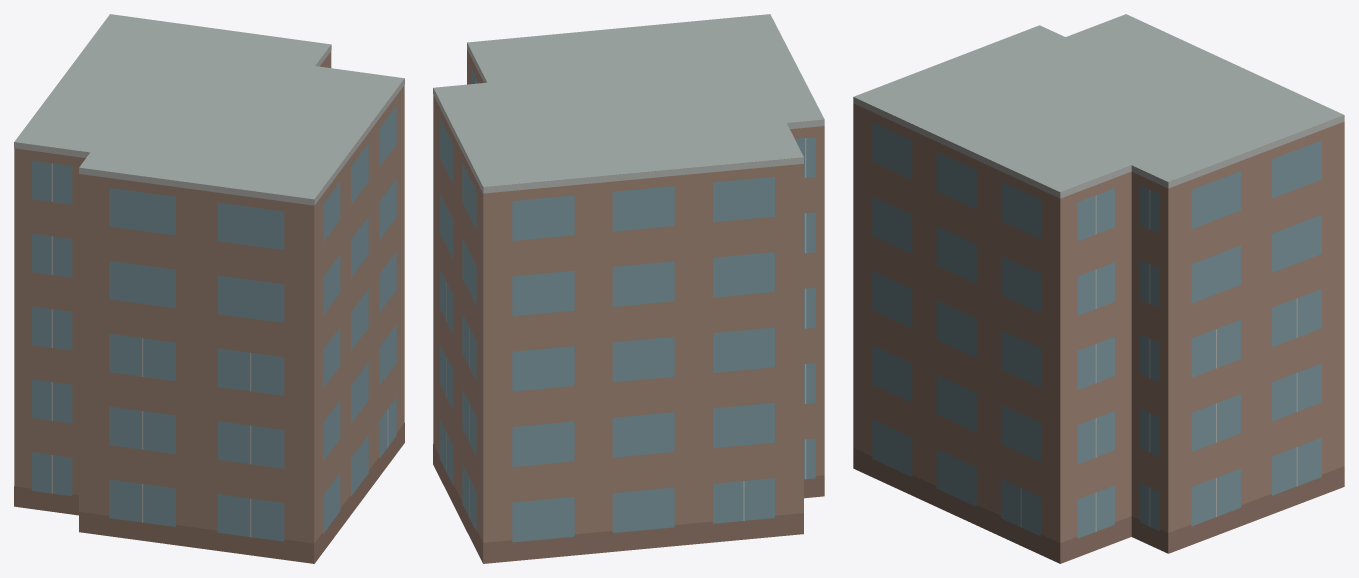
File: survey-upis-32864634.glb
3 renders of one model, left to right at view 1: azimuth 30°, elevation 25°; view 2: azimuth 150°, elevation 25°; view 3: azimuth 270°, elevation 25°, orthographic. The views are drawn at different scales.
Parts seen in each view (by area): view 1: survey-upis-32864634.tmp; view 2: survey-upis-32864634.tmp; view 3: survey-upis-32864634.tmp.
Boxes of the visible parts, x1=… form: survey-upis-32864634.tmp: x1=14, y1=14, x2=404, y2=563; survey-upis-32864634.tmp: x1=433, y1=14, x2=824, y2=563; survey-upis-32864634.tmp: x1=853, y1=14, x2=1344, y2=563.
Size of the model in its own units: 14.62 by 14.2 by 17.03.
